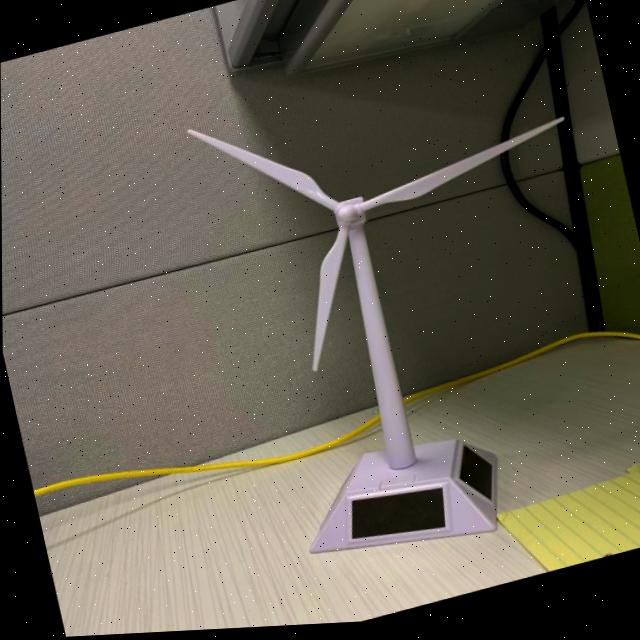solid-blade: (360, 124, 562, 212), (187, 129, 337, 213), (311, 230, 346, 373)
